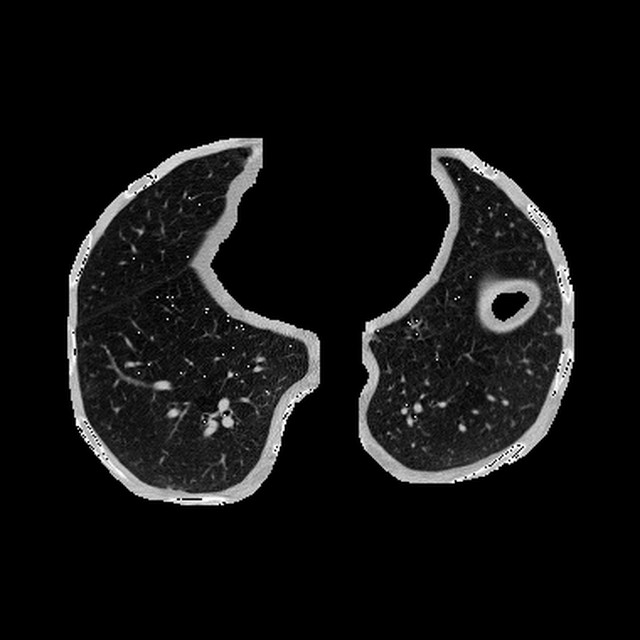PN: (554, 327, 561, 333)
